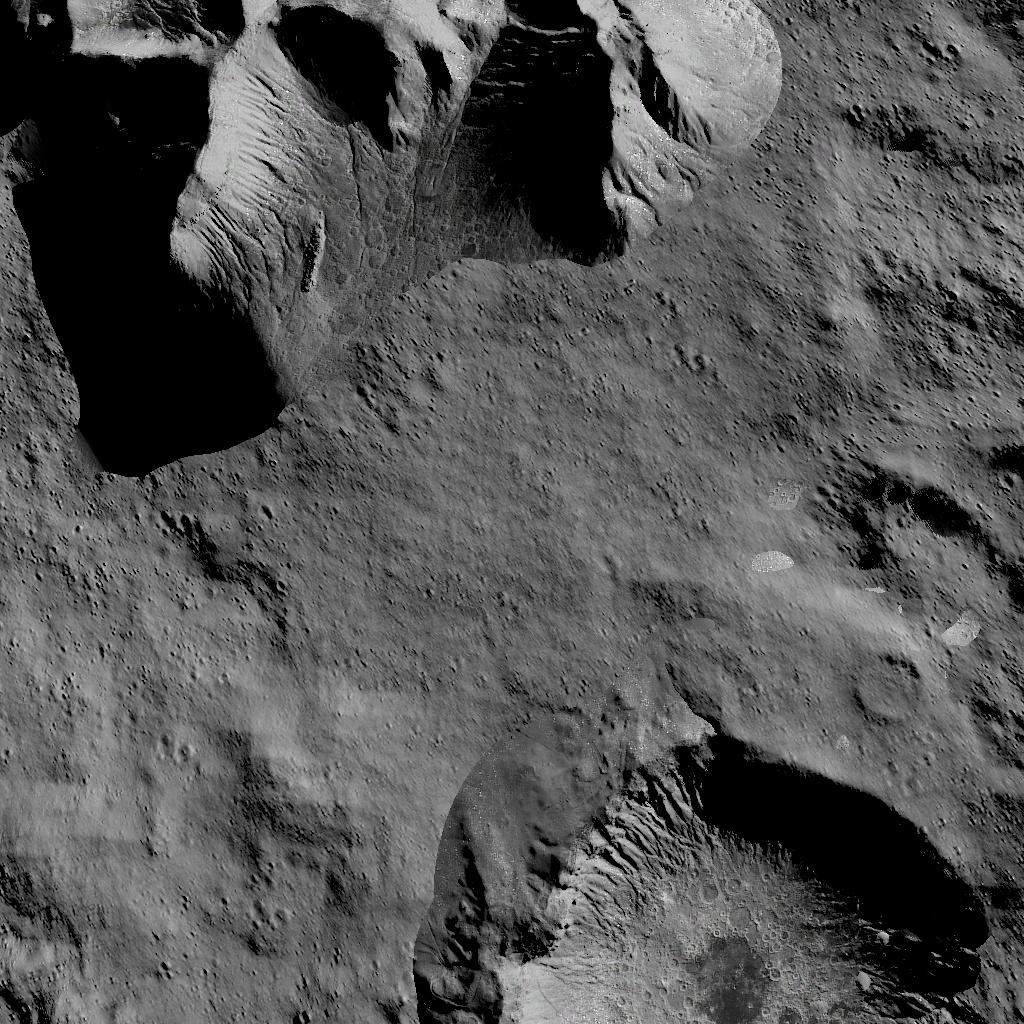Boulders: (1, 0, 785, 490)
Crater: (429, 694, 1024, 1024), (839, 434, 1024, 654), (0, 948, 75, 1024)
Plan surface: (4, 530, 404, 896), (829, 8, 1024, 396), (445, 506, 822, 668)
